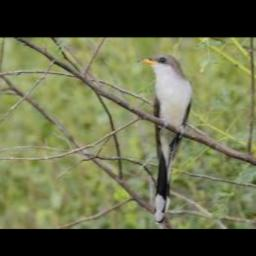Cuckoo: (137, 55, 193, 222)
